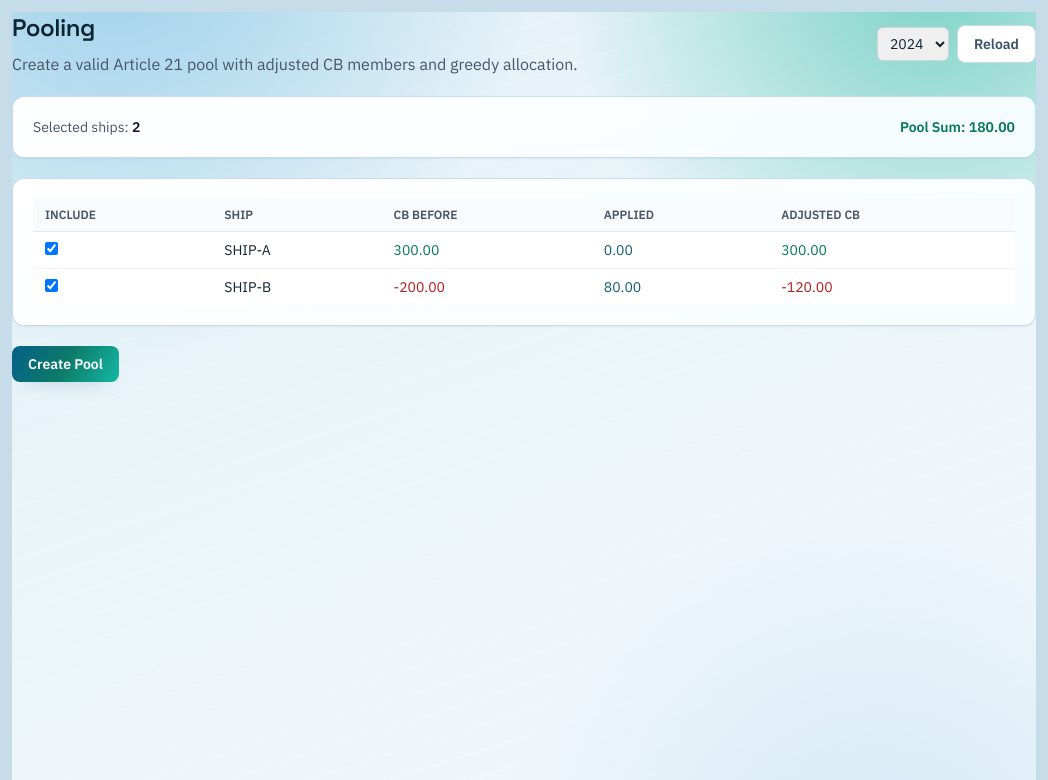
Test: PoolingPage › shows validation message when selected ships produce negative sum
The width and height of the screenshot is (1048, 780).
Click the checkbox in the row of "SHIP-A": (52, 248) [45, 242, 58, 255]
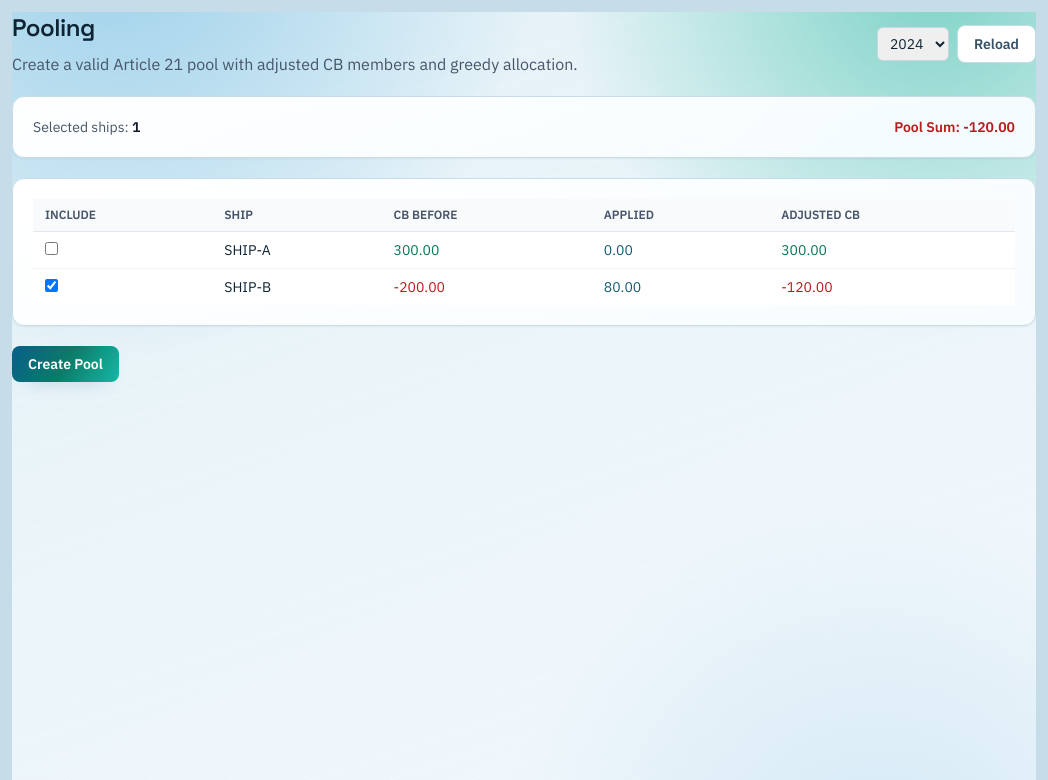
Click the button "Create Pool": (65, 364) [12, 346, 119, 382]
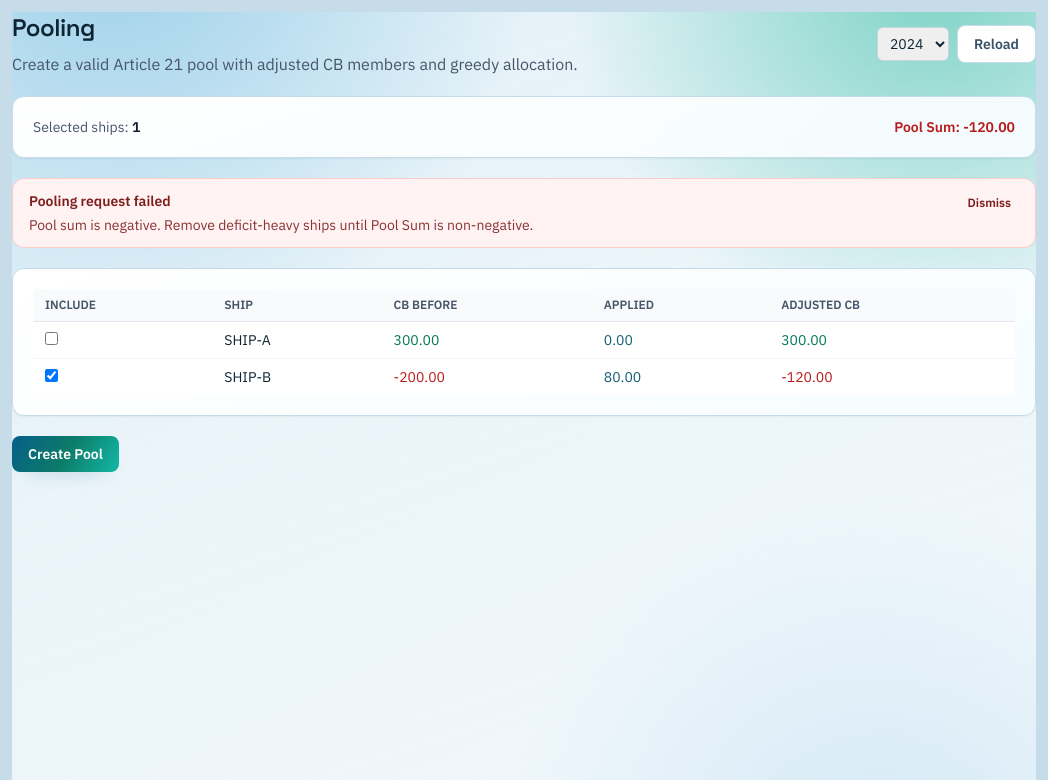
Now the text "Pool sum is negative. Remove deficit-heavy ships until Pool Sum is non-negative." is shown, box [29, 215, 533, 235]
